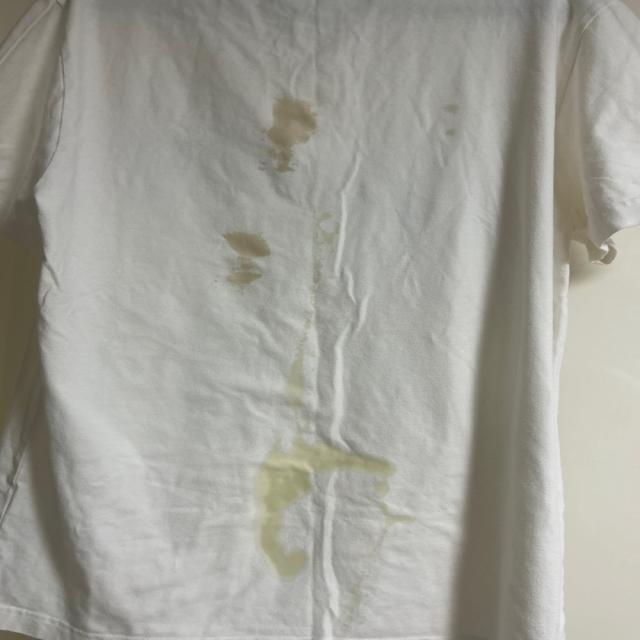stain: (257, 432, 387, 501), (278, 282, 338, 402), (255, 497, 321, 588), (261, 93, 321, 179), (215, 214, 280, 282), (338, 494, 413, 518), (310, 206, 349, 250), (446, 92, 468, 140)
